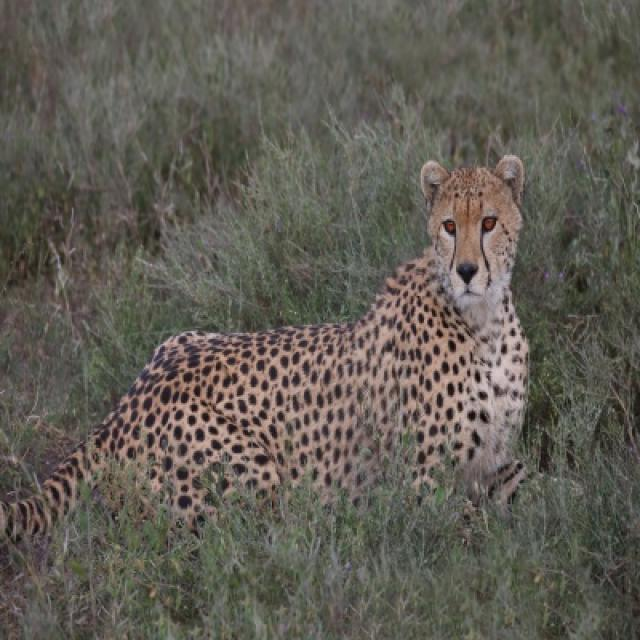Cheetah: (14, 155, 530, 536)
